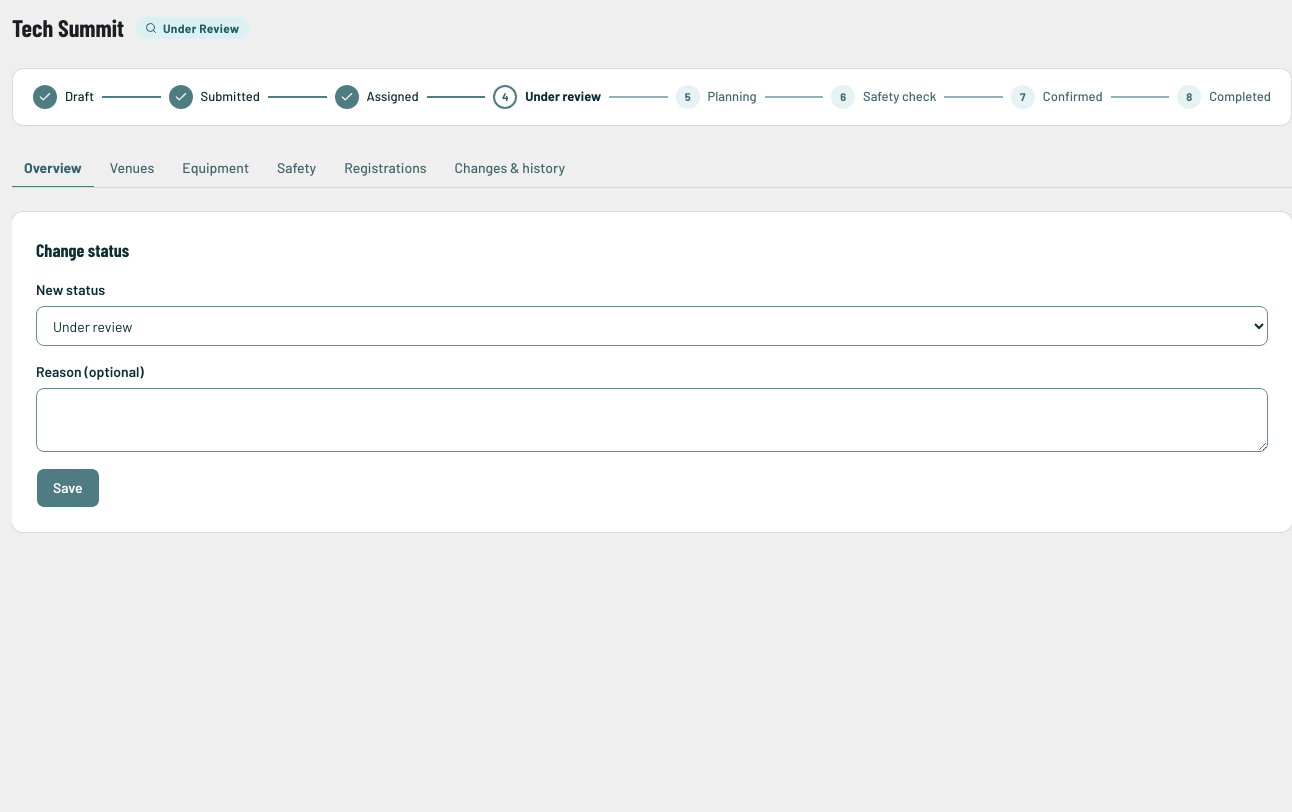
it: Event status page › lets the assigned coordinator change the status and confirms it
Step 1. Select "Returned" in the dropdown labelled "New status" → (652, 326), box [36,306,1268,346]
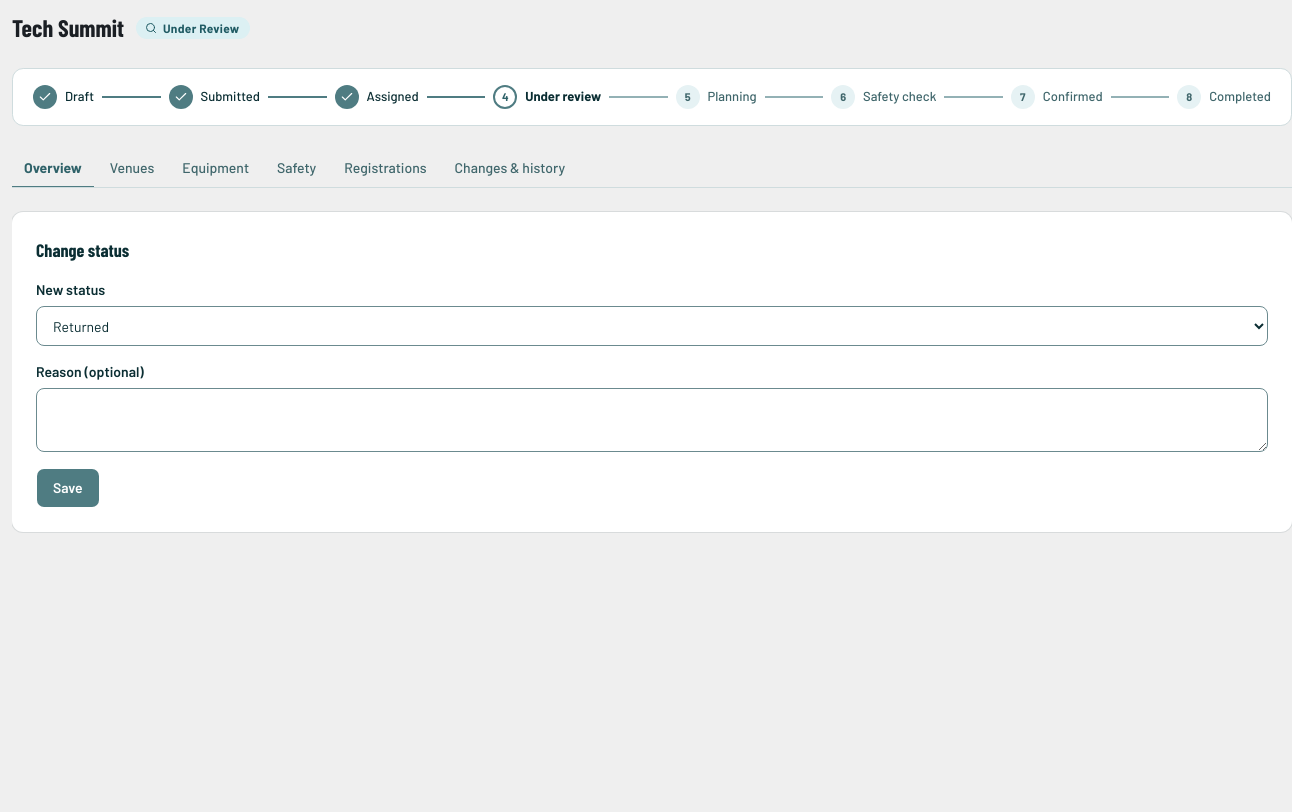
Step 2. Type "Please add attendance." into the text box labelled "Reason (optional)" → (652, 420), box [36,388,1268,452]
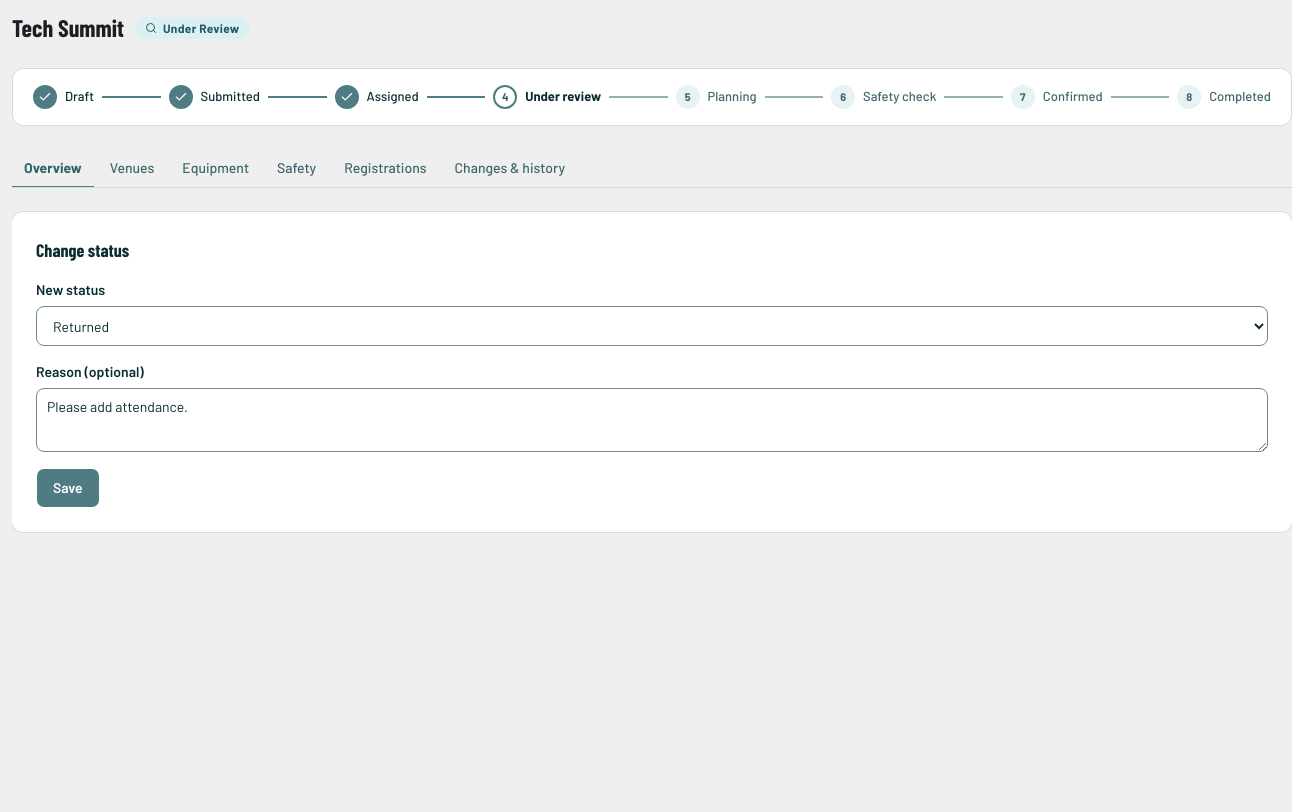
Step 3. Click the button "Save" → (68, 488), box [36,468,100,508]
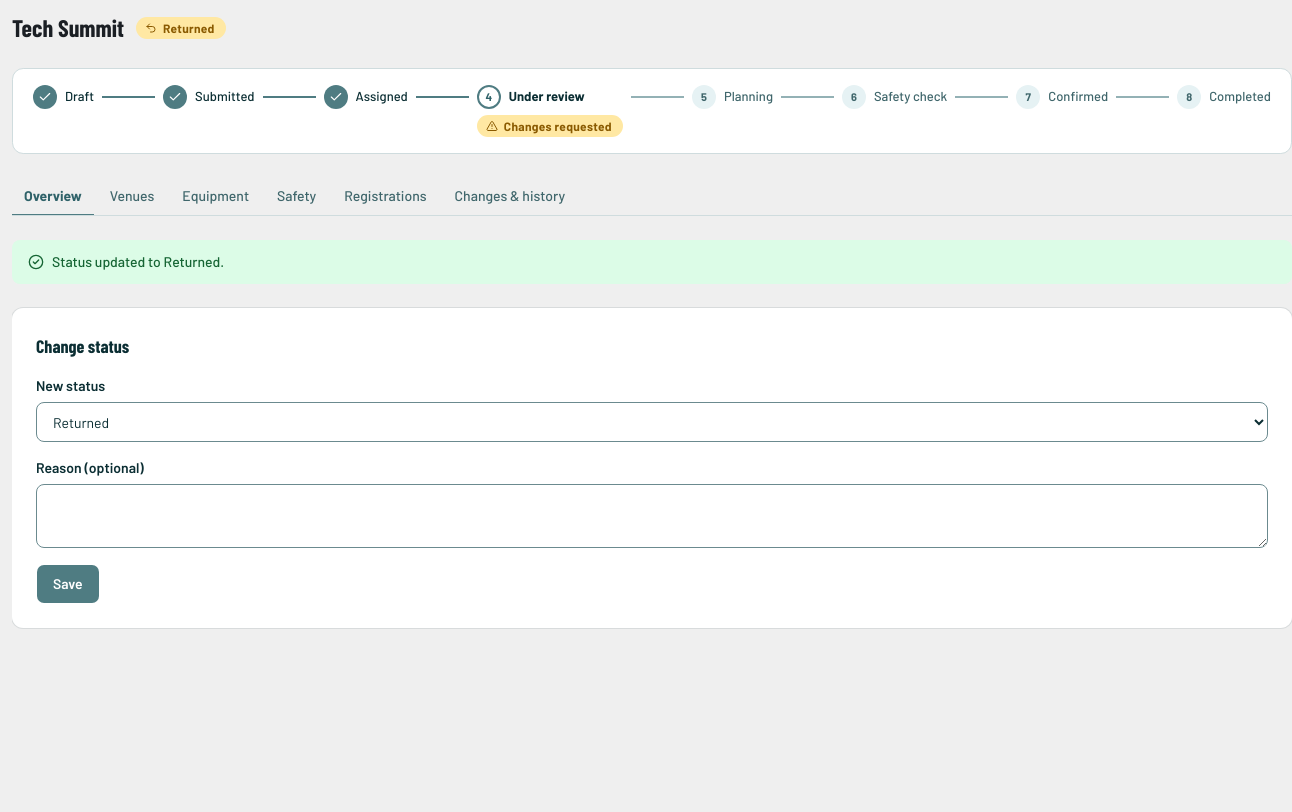
Expected: the text "Status updated to Returned." is shown, [52,252,224,272]
Expected: the text "Returned" is shown, [136,17,226,39]
